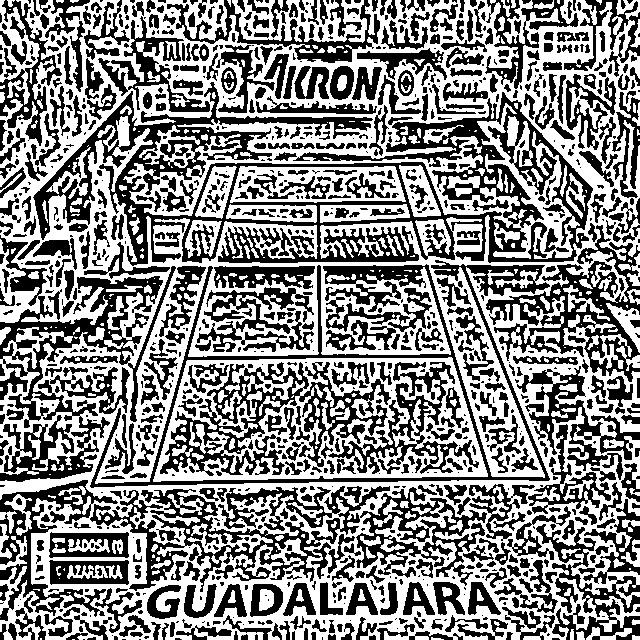left side: (397, 164, 548, 479), (91, 165, 239, 485)
player: (114, 348, 142, 476), (370, 96, 389, 158)
